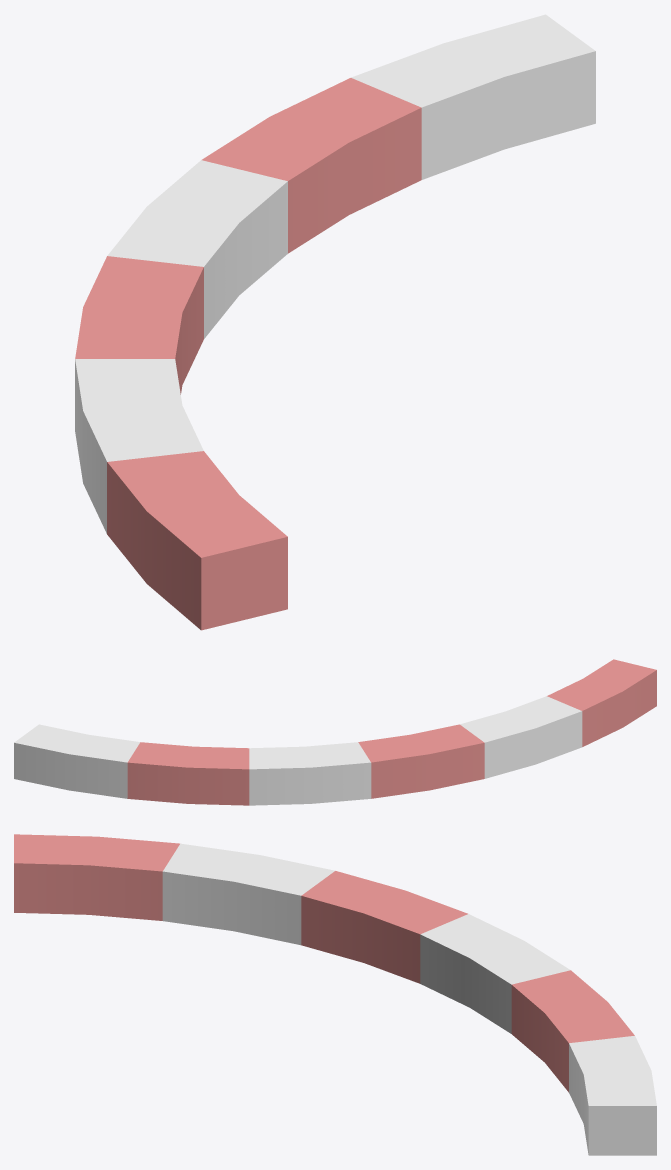
Rendered from road-corner-large-wall-inner.glb.
3 views of the same model, one above another, from view 1: azimuth 30°, elevation 25°; view 2: azimuth 150°, elevation 25°; view 3: azimuth 270°, elevation 25° (orthographic). The views are drawn at different scales.
Visible parts, largest first — view 1: roadCornerLargeWallInner(Clone); view 2: roadCornerLargeWallInner(Clone); view 3: roadCornerLargeWallInner(Clone).
Part boxes in pixels (x1,y1,x2,y2): roadCornerLargeWallInner(Clone): (75,14,595,630); roadCornerLargeWallInner(Clone): (14,659,656,805); roadCornerLargeWallInner(Clone): (14,834,656,1155).
Size of the model in its own units: 0.47 by 0.04 by 0.47.
